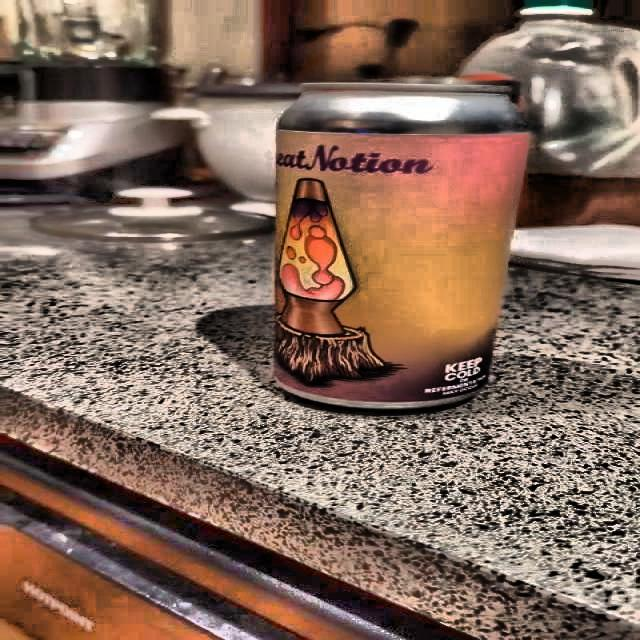can: (271, 73, 535, 413)
